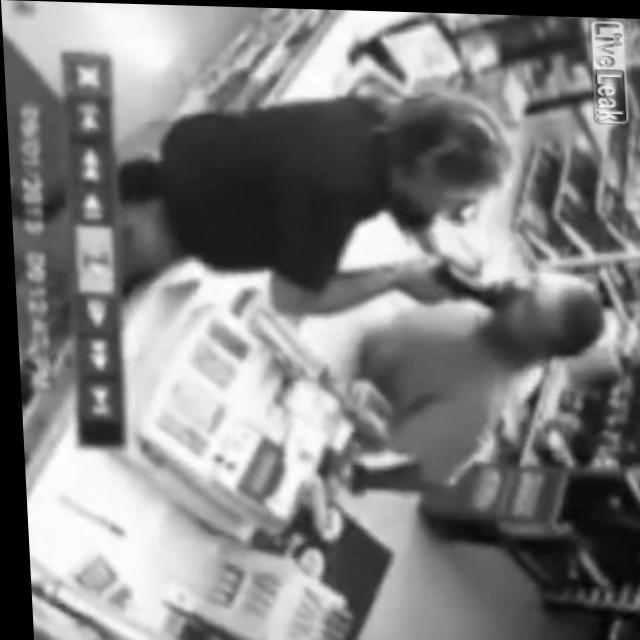handgun: (421, 255, 515, 322)
